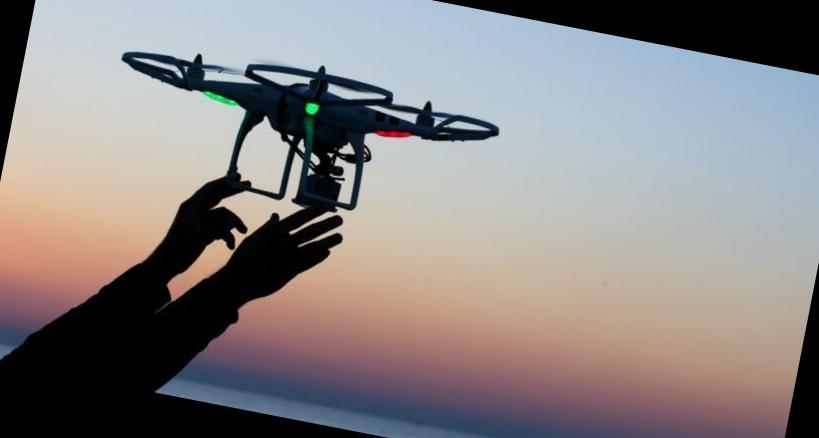drone: (95, 24, 525, 216)
